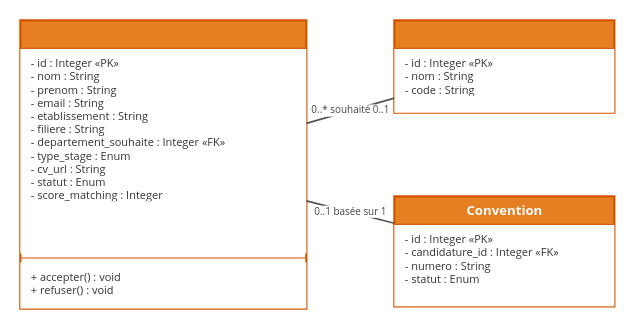
The diagram is 634 pixels wide and 330 high, and some of its shapes have lost their labels. Here are the shapes that lost their labels. From the top down, the box of each, then its label:
(393, 19, 615, 113): Departement
(19, 19, 307, 309): Candidature
